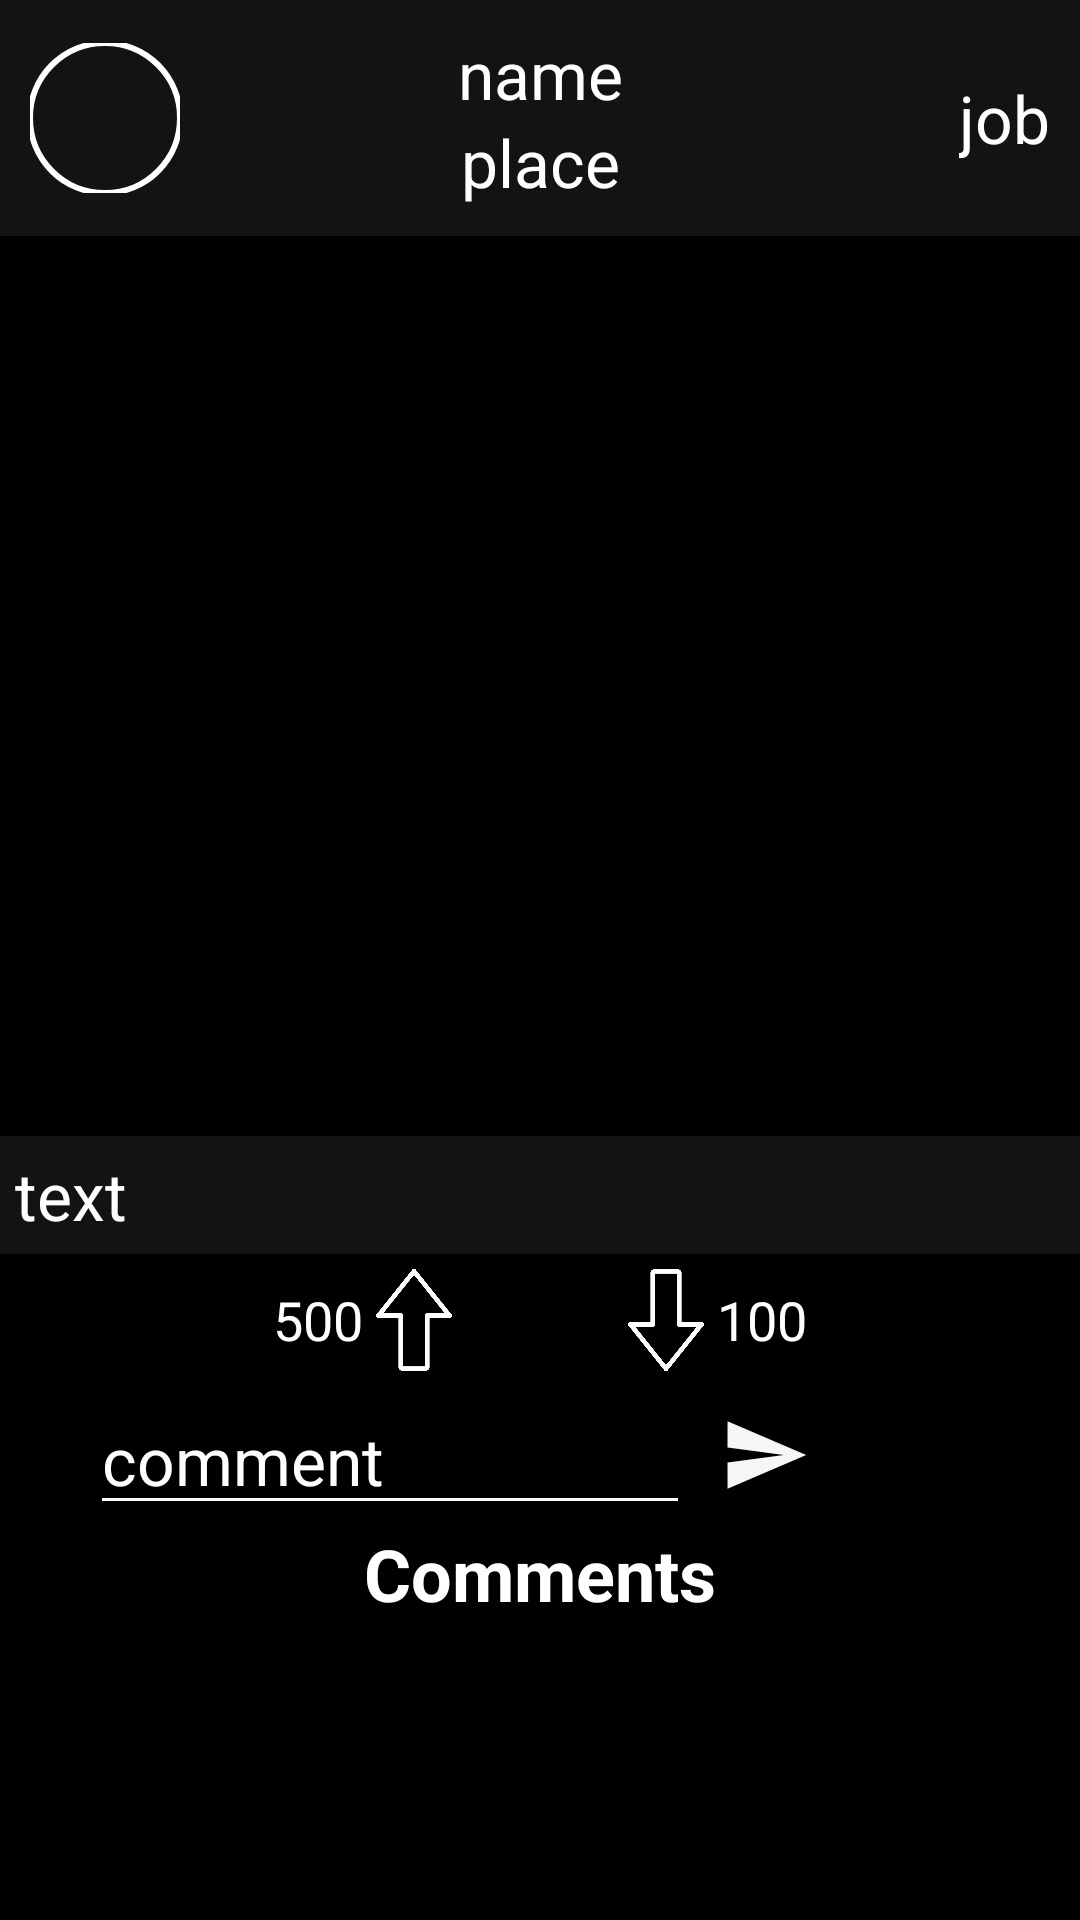

Where to tap for icons on this 1080×1920 app screen, as [x,y]:
down: [666,1320]
send: [766,1455]
